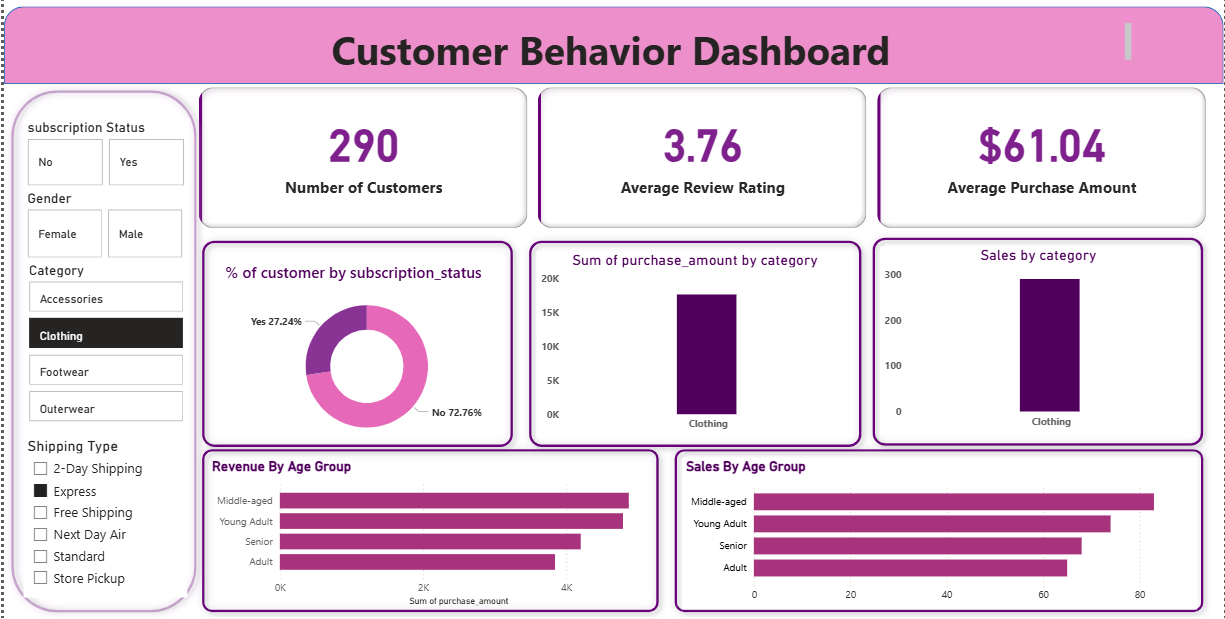

What the dashboard file says about the page in this screenshot:
{"tool":"powerbi","page":{"name":"Page 1","canvas":[1500,820],"ordinal":0},"visuals":[{"type":"cardVisual","fields":{"Data":["public customer.Number of Customers","public customer.Average Review Rating","public customer.Average Purchase Amount"]},"box":[234.7,159.5,1249,183.8],"z":0},{"type":"shape","box":[0,64.2,1499.3,95.2],"z":1000},{"type":"textbox","box":[110.7,79.7,1280,64.2],"z":2000},{"type":"shape","box":[635.6,343.3,427.4,272.4],"z":3000},{"type":"donutChart","title":"% of customer by subscription_status","fields":{"Category":["public customer.subscription_status"],"Y":["Count(public customer.customer_id)"]},"box":[268,378.7,356.5,232.5],"z":4000},{"type":"shape","box":[1058.6,338.8,425.2,274.6],"z":5000},{"type":"shape","box":[234.7,343.3,400.8,272.4],"z":6000},{"type":"clusteredColumnChart","fields":{"Category":["public customer.category"],"Y":["Sum(public customer.purchase_amount)"]},"box":[655.5,365.4,389.8,230.3],"z":7000},{"type":"clusteredColumnChart","title":"Sales by category","fields":{"Category":["public customer.category"],"Y":["CountNonNull(public customer.customer_id)"]},"box":[1076.3,358.8,389.8,232.5],"z":8000},{"type":"shape","box":[0,159.5,245.8,659.9],"z":9000},{"type":"advancedSlicerVisual","fields":{"Values":["public customer.subscription_status"]},"box":[24.4,203.7,203.7,86.4],"z":10000},{"type":"advancedSlicerVisual","fields":{"Values":["public customer.gender"]},"box":[24.4,290.1,201.5,88.6],"z":11000},{"type":"advancedSlicerVisual","fields":{"Values":["public customer.category"]},"box":[26.6,378.7,199.3,203.7],"z":12000},{"type":"slicer","title":"Shipping Type","fields":{"Values":["public customer.shipping_type"]},"box":[24,593.8,201,197.3],"z":13000},{"type":"clusteredBarChart","title":"Revenue By Age Group","fields":{"Category":["public customer.age_group"],"Y":["Sum(public customer.purchase_amount)"]},"box":[250.2,620.1,540.4,186],"z":14000},{"type":"shape","box":[234.7,600.2,580.2,219.2],"z":15000},{"type":"shape","box":[815,600.2,668.8,219.2],"z":15001},{"type":"clusteredBarChart","title":"Sales By Age Group","fields":{"Category":["public customer.age_group"],"Y":["CountNonNull(public customer.customer_id)"]},"box":[832.7,620.1,633.4,186],"z":15002}]}

Visuals, with their boxes in screenshot pixels (x1, y1, x2, y2):
cardVisual - public customer.Number of Customers x public customer.Average Review Rating: crop(197, 86, 1197, 233)
shape: crop(10, 10, 1209, 86)
textbox: crop(98, 22, 1122, 74)
shape: crop(518, 233, 860, 451)
"% of customer by subscription_status" donutChart: crop(224, 261, 509, 448)
shape: crop(856, 230, 1197, 449)
shape: crop(197, 233, 518, 451)
clusteredColumnChart - public customer.category x Sum(public customer.purchase_amount): crop(534, 251, 846, 435)
"Sales by category" clusteredColumnChart: crop(871, 246, 1182, 432)
shape: crop(10, 86, 206, 614)
advancedSlicerVisual - public customer.subscription_status: crop(29, 121, 192, 191)
advancedSlicerVisual - public customer.gender: crop(29, 191, 190, 261)
advancedSlicerVisual - public customer.category: crop(31, 261, 190, 424)
"Shipping Type" slicer: crop(29, 434, 190, 591)
"Revenue By Age Group" clusteredBarChart: crop(210, 455, 642, 603)
shape: crop(197, 439, 662, 614)
shape: crop(662, 439, 1197, 614)
"Sales By Age Group" clusteredBarChart: crop(676, 455, 1182, 603)
